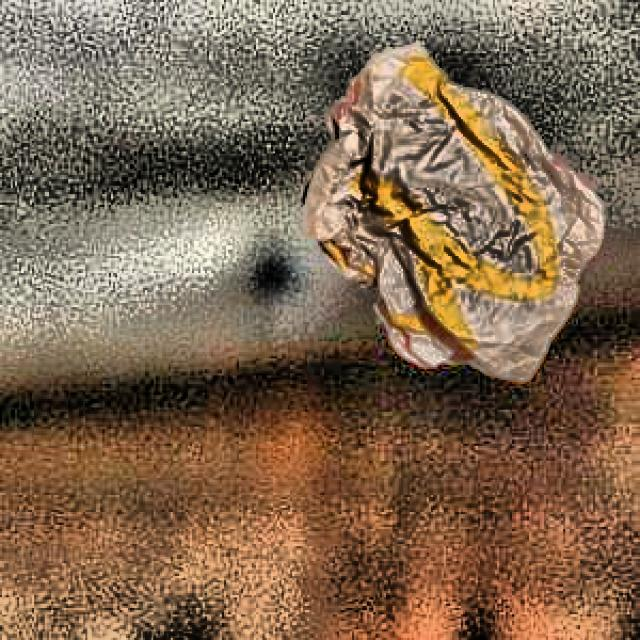Paper-bag: (298, 27, 619, 433)
